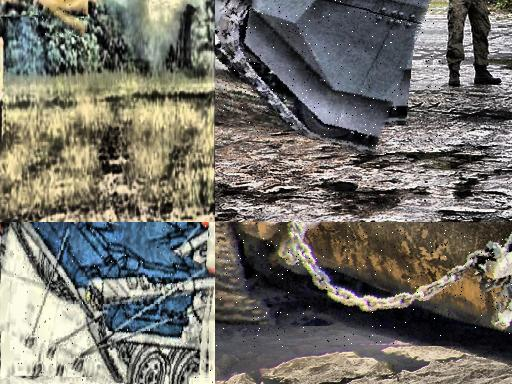tanks: (216, 1, 432, 155), (12, 223, 213, 384), (216, 223, 512, 329), (36, 1, 87, 37), (1, 40, 4, 109)
